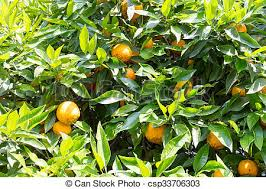orange: (141, 113, 173, 146), (53, 101, 81, 124), (110, 41, 131, 63), (237, 159, 258, 178), (229, 83, 247, 99)
